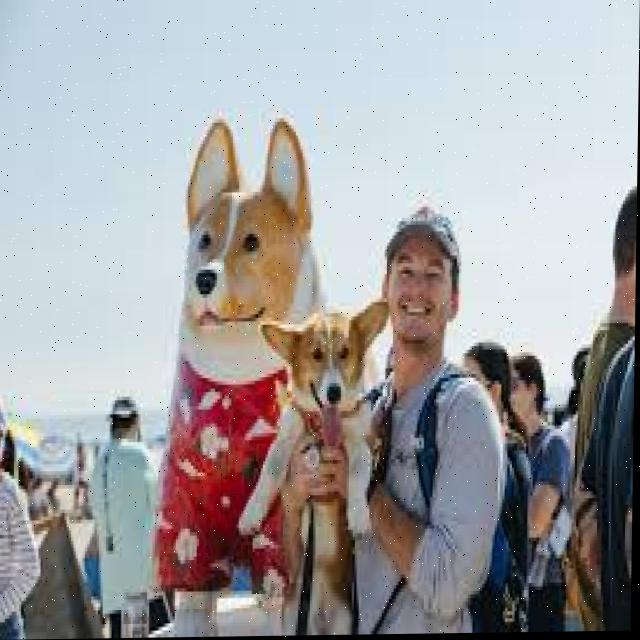CORGI: (258, 275, 390, 637)
